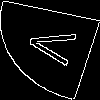V: (24, 25, 89, 68)
